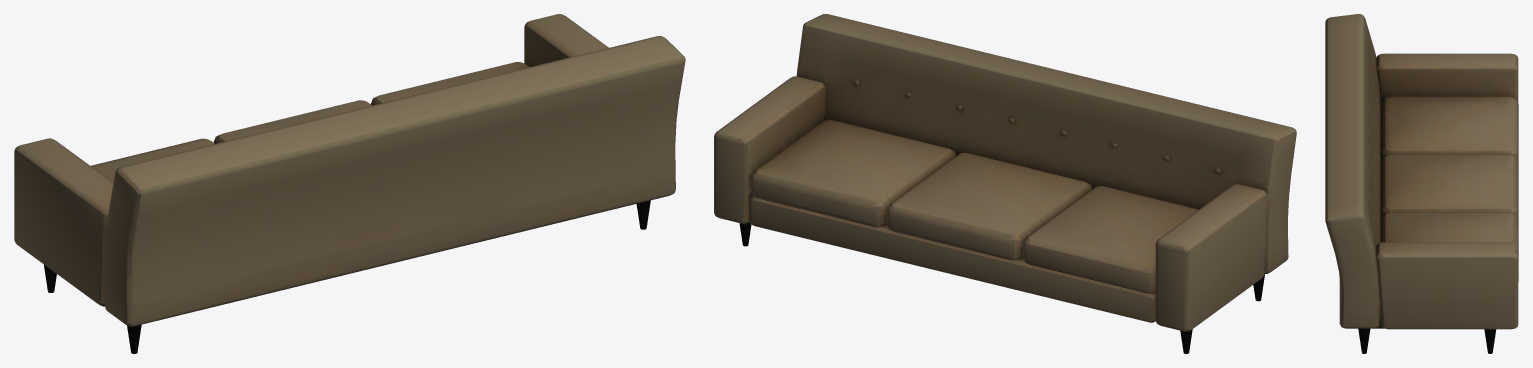
The model's file is couch.obj.
3 views of the same model, side by side, from view 1: azimuth 30°, elevation 25°; view 2: azimuth 150°, elevation 25°; view 3: azimuth 270°, elevation 25° (orthographic). The views are drawn at different scales.
Visible parts, largest first — view 1: Mesh1 G_3DGeom_1 Couch_Couch_Couch SimLab_2017_06_11_08_17_27_1 , Mesh6 G_3DGeom_1 Couch_Couch_Couch SimLab_2017_06_11_08_17_27_1 , Mesh7 G_3DGeom_1 Couch_Couch_Couch SimLab_2017_06_11_08_17_27_1 , Mesh10 G_3DGeom_1 Couch_Couch_Couch SimLab_2017_06_11_08_17_27_1, Mesh8 G_3DGeom_1 Couch_Couch_Couch SimLab_2017_06_11_08_17_27_1 , Mesh9 G_3DGeom_1 Couch_Couch_Couch SimLab_2017_06_11_08_17_27_1 ; view 2: Mesh1 G_3DGeom_1 Couch_Couch_Couch SimLab_2017_06_11_08_17_27_1 , Mesh10 G_3DGeom_1 Couch_Couch_Couch SimLab_2017_06_11_08_17_27_1, Mesh8 G_3DGeom_1 Couch_Couch_Couch SimLab_2017_06_11_08_17_27_1 , Mesh5 G_3DGeom_1 Couch_Couch_Couch SimLab_2017_06_11_08_17_27_1 , Mesh6 G_3DGeom_1 Couch_Couch_Couch SimLab_2017_06_11_08_17_27_1 , Mesh9 G_3DGeom_1 Couch_Couch_Couch SimLab_2017_06_11_08_17_27_1 , Mesh7 G_3DGeom_1 Couch_Couch_Couch SimLab_2017_06_11_08_17_27_1 ; view 3: Mesh1 G_3DGeom_1 Couch_Couch_Couch SimLab_2017_06_11_08_17_27_1 , Mesh7 G_3DGeom_1 Couch_Couch_Couch SimLab_2017_06_11_08_17_27_1 , Mesh9 G_3DGeom_1 Couch_Couch_Couch SimLab_2017_06_11_08_17_27_1 , Mesh10 G_3DGeom_1 Couch_Couch_Couch SimLab_2017_06_11_08_17_27_1, Mesh6 G_3DGeom_1 Couch_Couch_Couch SimLab_2017_06_11_08_17_27_1 , Mesh8 G_3DGeom_1 Couch_Couch_Couch SimLab_2017_06_11_08_17_27_1 , Mesh20 G_3DGeom_1 Couch_Couch_Couch SimLab_2017_06_11_08_17_27_1, Mesh19 G_3DGeom_1 Couch_Couch_Couch SimLab_2017_06_11_08_17_27_1.
Part boxes in pixels (x1,y1,x2,y2): Mesh1 G_3DGeom_1 Couch_Couch_Couch SimLab_2017_06_11_08_17_27_1 : [104, 36, 685, 326]; Mesh6 G_3DGeom_1 Couch_Couch_Couch SimLab_2017_06_11_08_17_27_1 : [14, 138, 113, 306]; Mesh7 G_3DGeom_1 Couch_Couch_Couch SimLab_2017_06_11_08_17_27_1 : [524, 14, 608, 66]; Mesh10 G_3DGeom_1 Couch_Couch_Couch SimLab_2017_06_11_08_17_27_1: [213, 100, 372, 143]; Mesh8 G_3DGeom_1 Couch_Couch_Couch SimLab_2017_06_11_08_17_27_1 : [371, 62, 529, 105]; Mesh9 G_3DGeom_1 Couch_Couch_Couch SimLab_2017_06_11_08_17_27_1 : [91, 138, 214, 182]; Mesh1 G_3DGeom_1 Couch_Couch_Couch SimLab_2017_06_11_08_17_27_1 : [796, 14, 1296, 273]; Mesh10 G_3DGeom_1 Couch_Couch_Couch SimLab_2017_06_11_08_17_27_1: [886, 152, 1092, 260]; Mesh8 G_3DGeom_1 Couch_Couch_Couch SimLab_2017_06_11_08_17_27_1 : [750, 119, 956, 227]; Mesh5 G_3DGeom_1 Couch_Couch_Couch SimLab_2017_06_11_08_17_27_1 : [749, 196, 1155, 322]; Mesh6 G_3DGeom_1 Couch_Couch_Couch SimLab_2017_06_11_08_17_27_1 : [1155, 184, 1267, 331]; Mesh9 G_3DGeom_1 Couch_Couch_Couch SimLab_2017_06_11_08_17_27_1 : [1022, 186, 1198, 293]; Mesh7 G_3DGeom_1 Couch_Couch_Couch SimLab_2017_06_11_08_17_27_1 : [714, 76, 825, 223]; Mesh1 G_3DGeom_1 Couch_Couch_Couch SimLab_2017_06_11_08_17_27_1 : [1325, 14, 1380, 328]; Mesh7 G_3DGeom_1 Couch_Couch_Couch SimLab_2017_06_11_08_17_27_1 : [1376, 242, 1518, 329]; Mesh9 G_3DGeom_1 Couch_Couch_Couch SimLab_2017_06_11_08_17_27_1 : [1380, 96, 1518, 161]; Mesh10 G_3DGeom_1 Couch_Couch_Couch SimLab_2017_06_11_08_17_27_1: [1380, 154, 1518, 219]; Mesh6 G_3DGeom_1 Couch_Couch_Couch SimLab_2017_06_11_08_17_27_1 : [1376, 53, 1518, 102]; Mesh8 G_3DGeom_1 Couch_Couch_Couch SimLab_2017_06_11_08_17_27_1 : [1380, 212, 1518, 281]; Mesh20 G_3DGeom_1 Couch_Couch_Couch SimLab_2017_06_11_08_17_27_1: [1358, 328, 1370, 353]; Mesh19 G_3DGeom_1 Couch_Couch_Couch SimLab_2017_06_11_08_17_27_1: [1484, 329, 1496, 353].
Size of the model in its own units: 631 by 209 by 253.
Materials: 1 (1 with a texture image).
